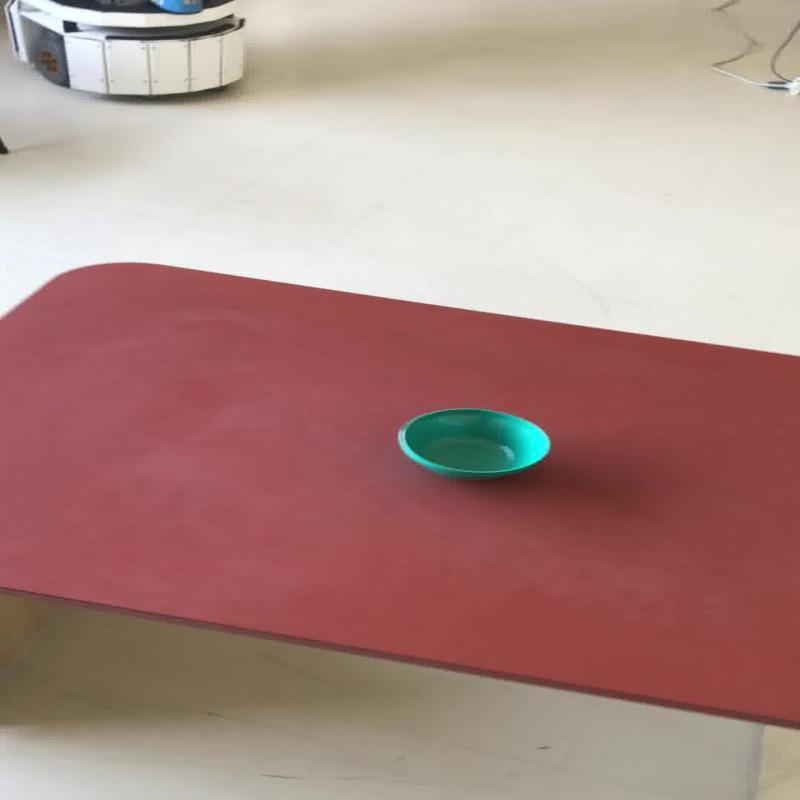bowl: (394, 406, 550, 478)
